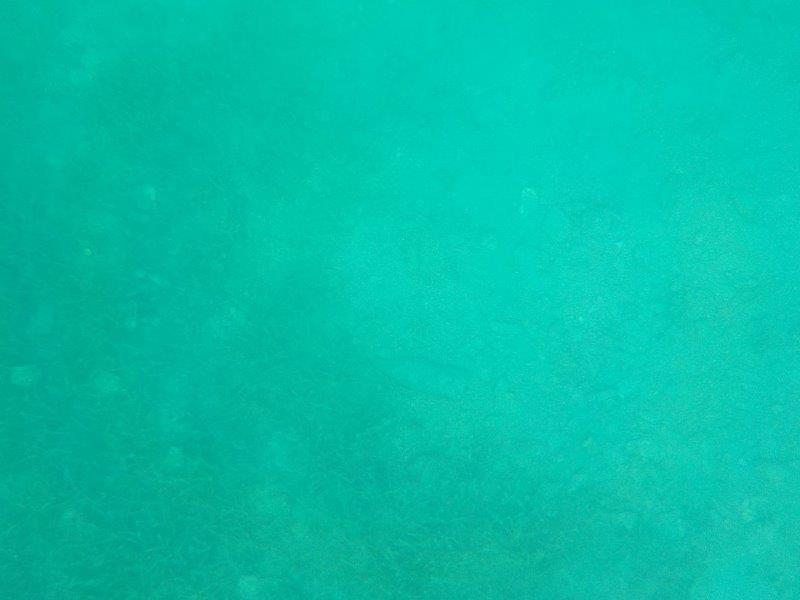bottle: (361, 347, 477, 403)
